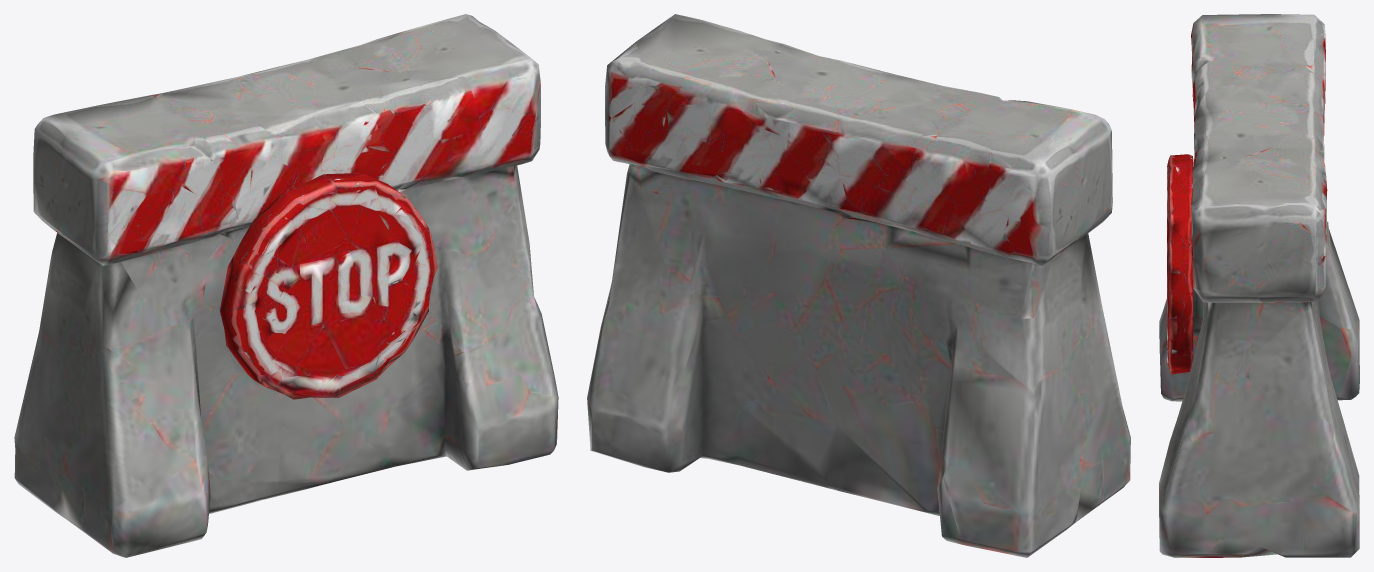
File: block.glb
The picture shows the model from 3 angles, left to right: view 1: azimuth 30°, elevation 25°; view 2: azimuth 150°, elevation 25°; view 3: azimuth 270°, elevation 25°; orthographic projection. The views are drawn at different scales.
Size of the model in its own units: 1.9 by 1.55 by 0.8031.
1 material, 1 textured.
